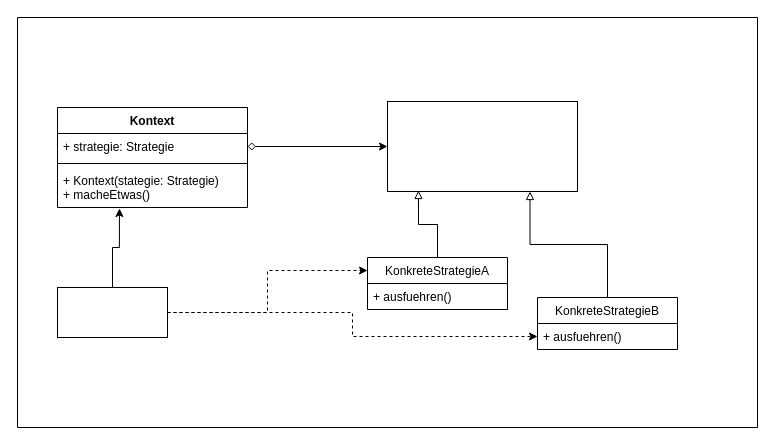
The diagram is 775 pixels wide and 445 high, and some of its shapes have lost their labels. The box of each missing label's shape, as (x1, y1, x2, y2) in pixels:
<<Interface>> Strategie + ausfuehren(): (386, 100, 578, 192)
Client: (56, 286, 168, 338)
